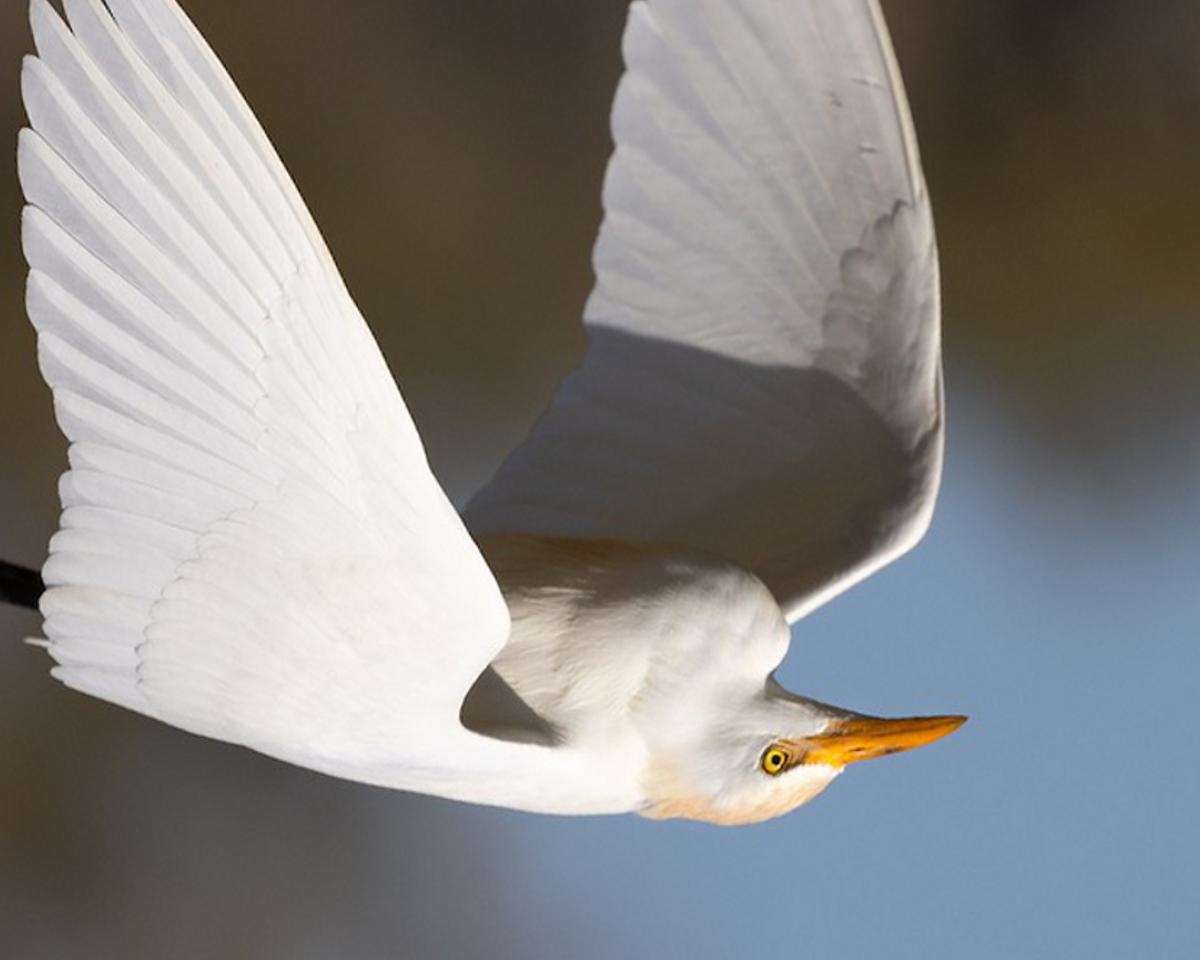egret: (1, 1, 996, 838)
